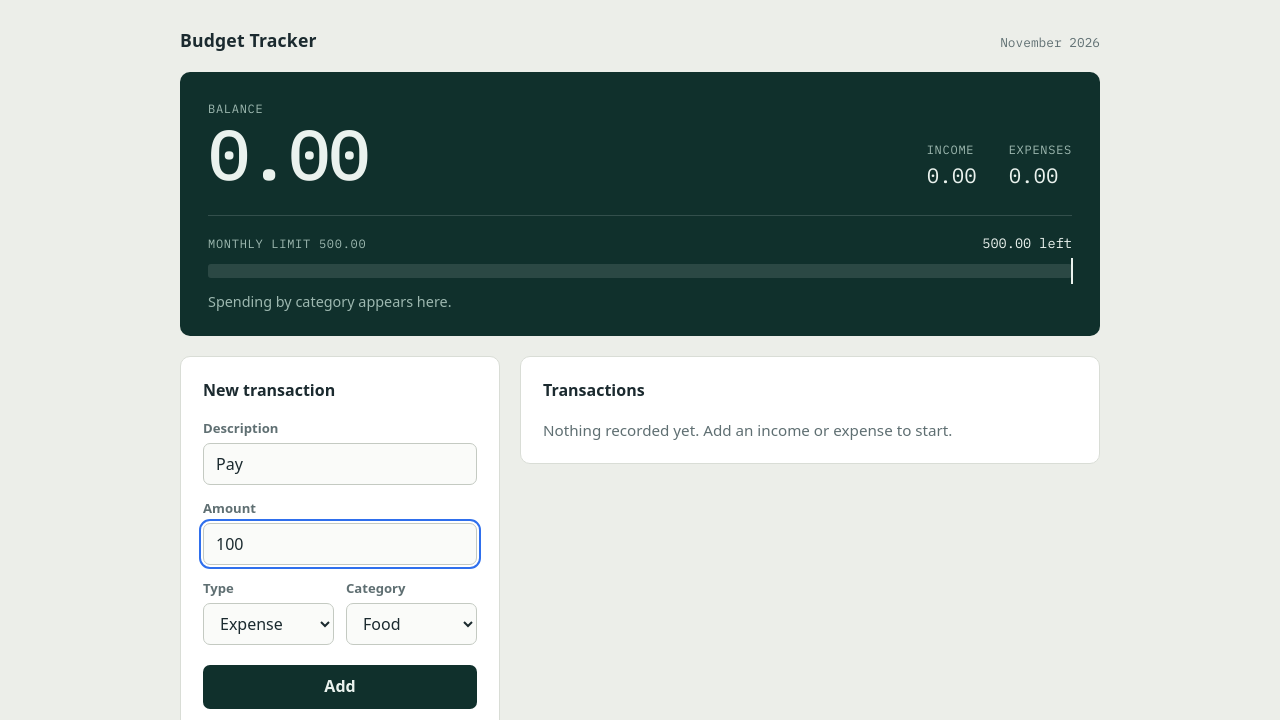
Test case: App › adds transactions and updates the balance
The image size is (1280, 720).
Earlier steps of the test are not shown.
Select "Income" in the dropdown labelled "Type": (268, 624) [203, 603, 334, 645]
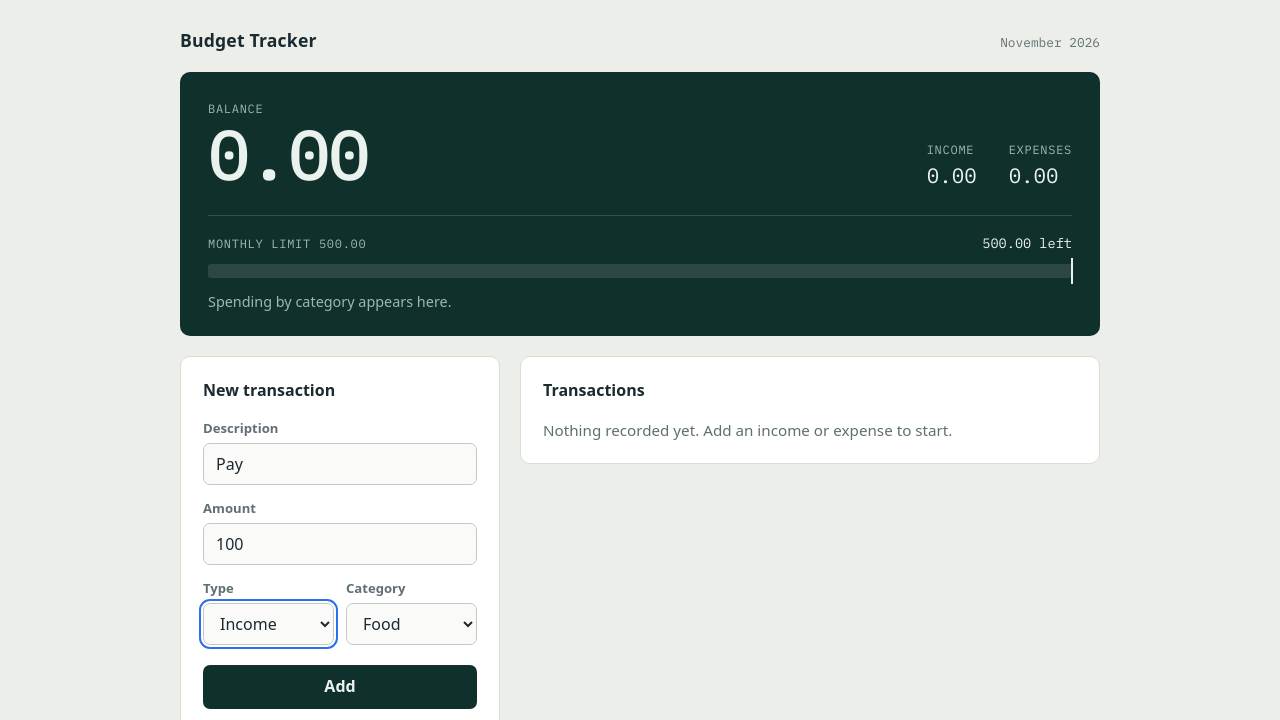
Click the button "Add": (340, 687) [203, 665, 477, 709]
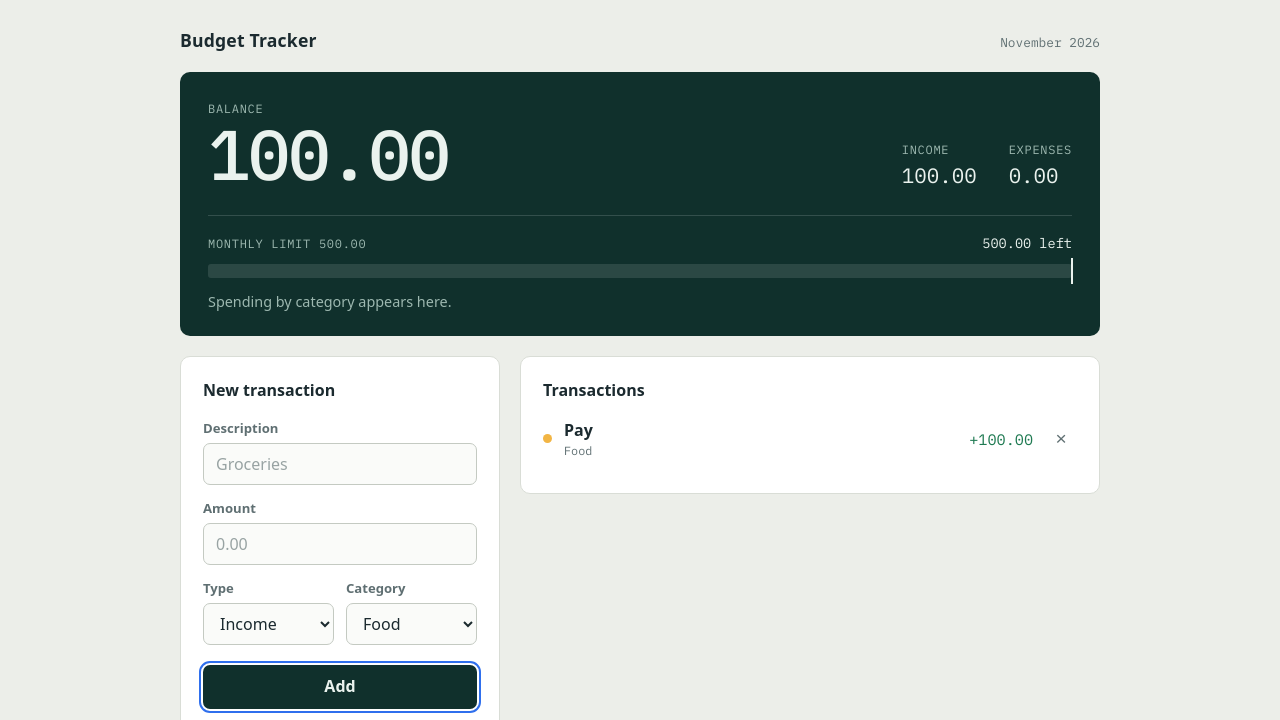
In the field labelled "Description": (340, 464) [203, 443, 477, 485], type "Lunch"
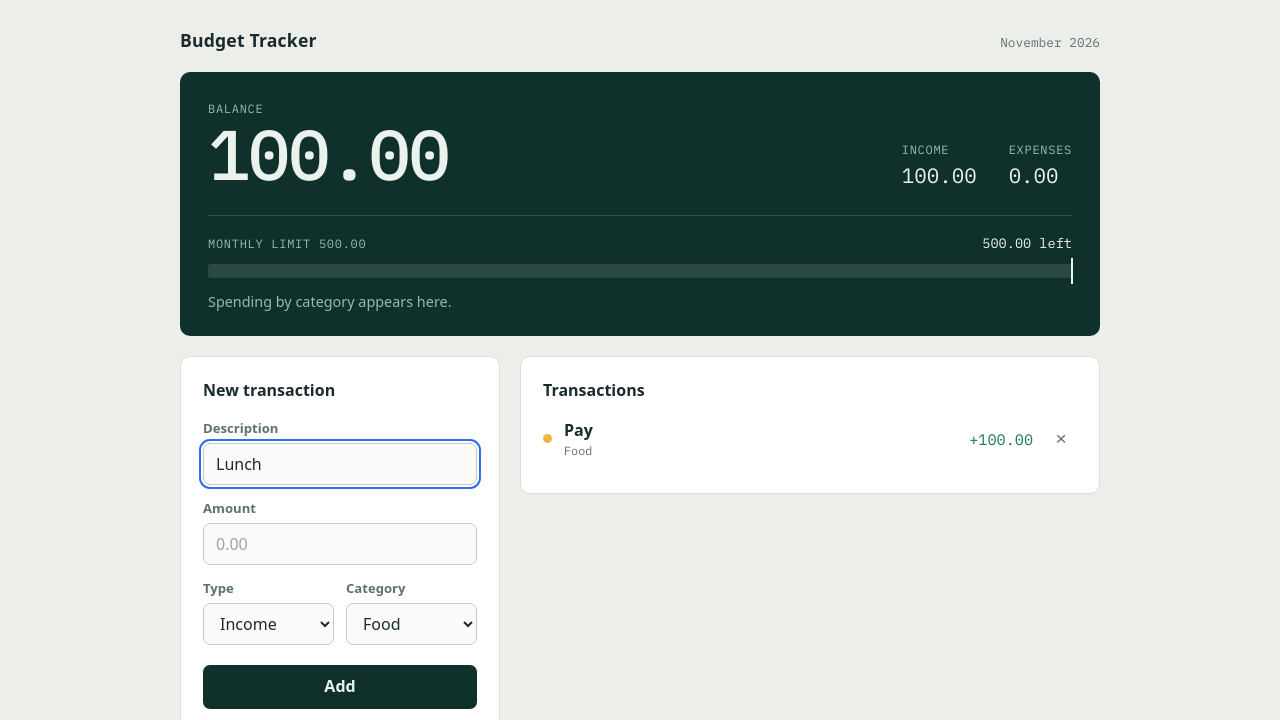
In the field labelled "Amount": (340, 544) [203, 523, 477, 565], type "30"
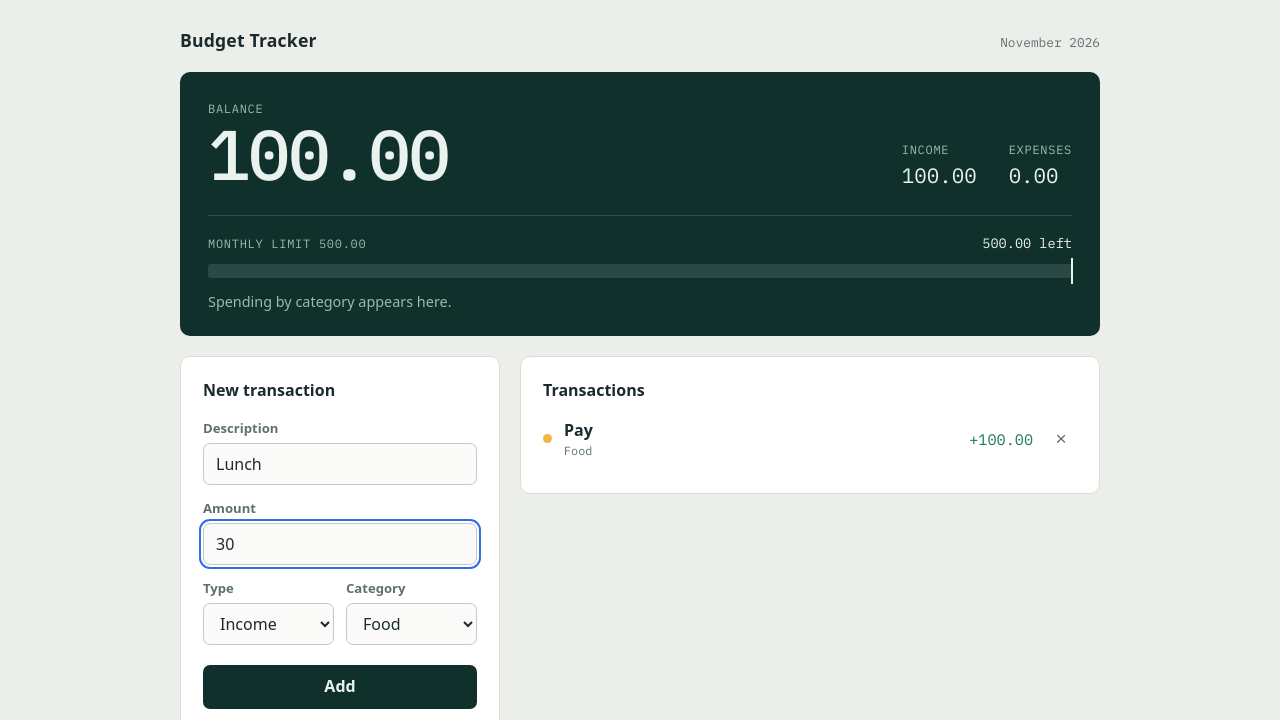
Select "Expense" in the dropdown labelled "Type": (268, 624) [203, 603, 334, 645]
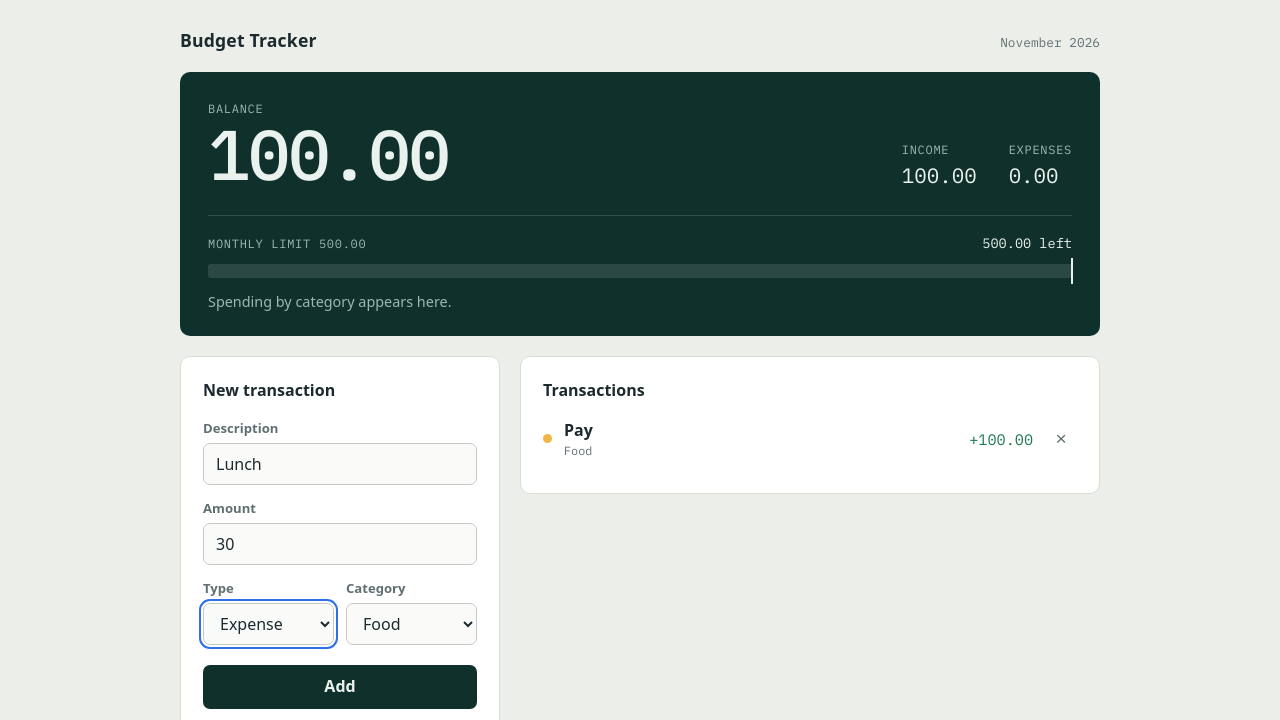
Click the button "Add": (340, 687) [203, 665, 477, 709]
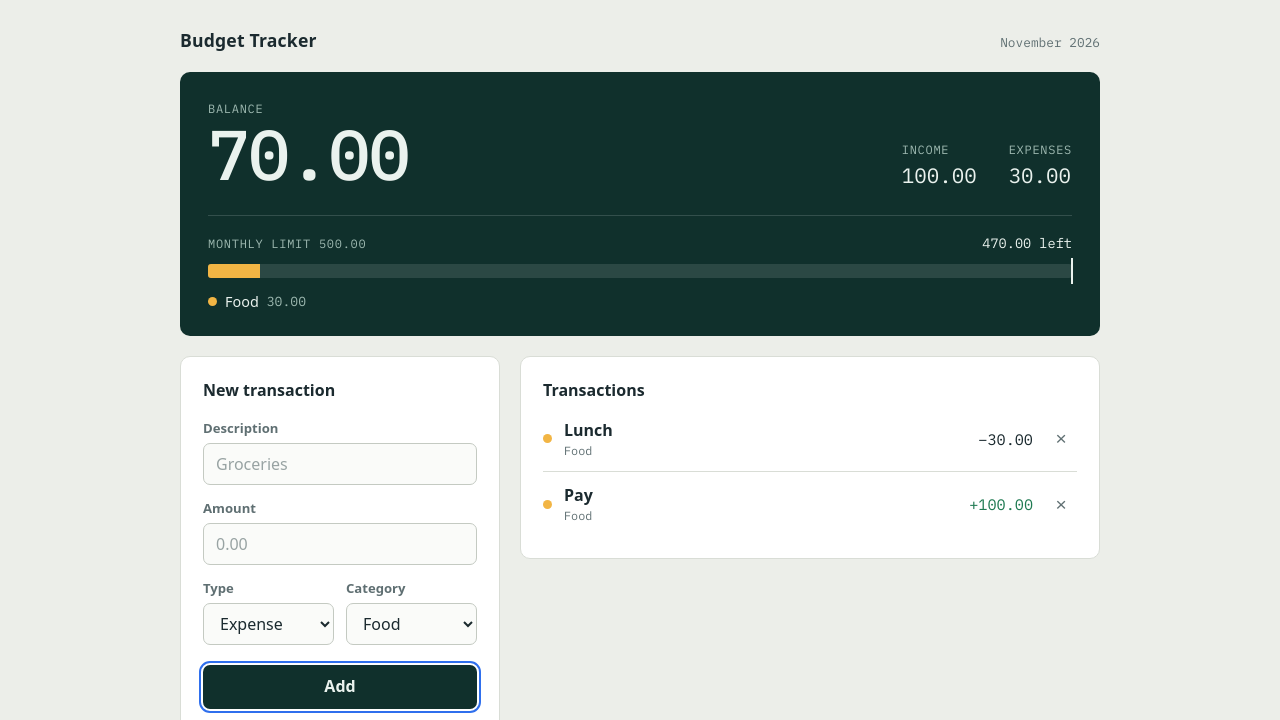
Expected: the text with test id "income" reads "100.00", [902, 162, 977, 189]
Expected: the text with test id "expenses" reads "30.00", [1009, 162, 1071, 189]
Expected: the text with test id "balance" reads "70.00", [208, 108, 409, 199]
